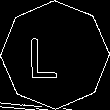L_N: (39, 29, 71, 81)
